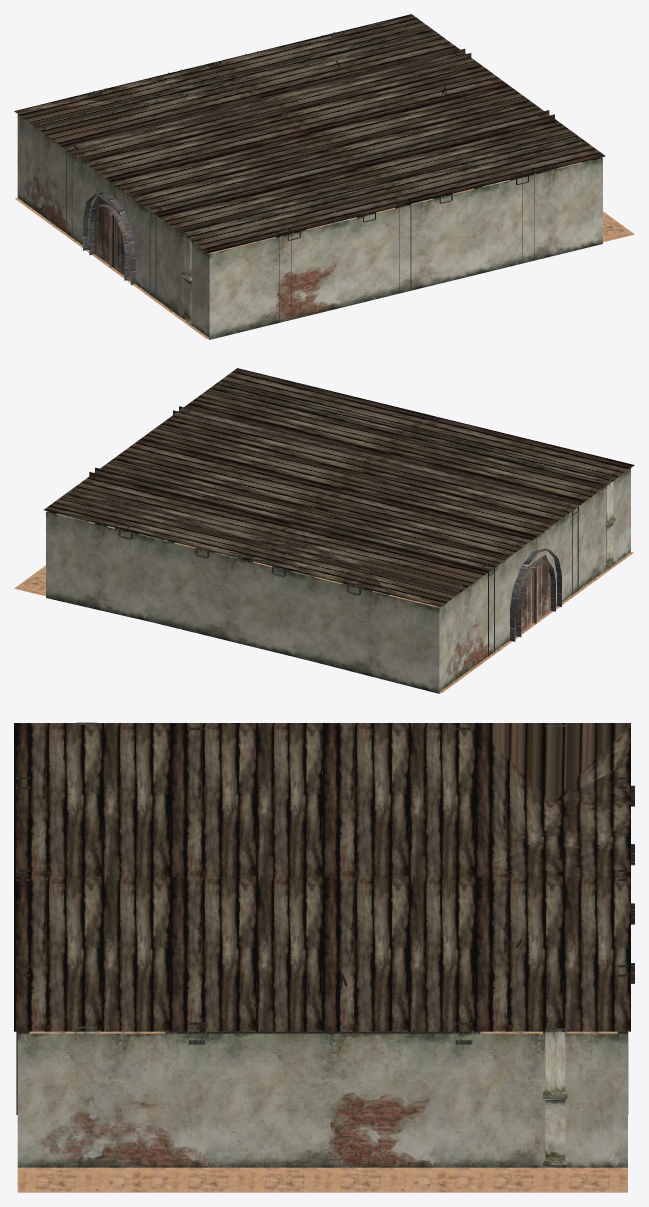
File: interior_storage.fbx
3 renders of one model, top to bottom at view 1: azimuth 30°, elevation 25°; view 2: azimuth 150°, elevation 25°; view 3: azimuth 270°, elevation 25°, orthographic. The views are drawn at different scales.
Parts seen in each view (by area): view 1: ceiling, walls, woodbeamsA, rightSideColumns2, rightSideColumns, arch14, door_hole, floor; view 2: ceiling, walls, woodbeamsA, rightSideColumns2, rightSideColumns, door_hole, arch14, floor, door_right; view 3: ceiling, walls, floor, rightSideColumns, woodbeamsA, polySurface88.
Part boxes in pixels (x1,y1,x2,y2): ceiling: (14,14,605,253); walls: (17,114,602,339); woodbeamsA: (65,31,599,321); rightSideColumns2: (182,137,581,324); rightSideColumns: (39,28,437,129); arch14: (83,192,135,284); door_hole: (94,198,124,275); floor: (15,198,634,338); ceiling: (43,368,634,606); walls: (46,468,630,693); woodbeamsA: (49,385,578,675); rightSideColumns2: (215,382,615,569); rightSideColumns: (65,489,462,607); door_hole: (515,554,550,635); arch14: (510,548,561,641); floor: (14,552,633,692); door_right: (515,563,536,636); ceiling: (14,723,630,1031); walls: (17,1033,627,1167); floor: (17,1031,627,1192); rightSideColumns: (543,724,567,1167); woodbeamsA: (16,727,628,1114); polySurface88: (177,1031,453,1033).
Size of the model in its own units: 12930 by 3390 by 10162.
3 materials, 3 textured.
